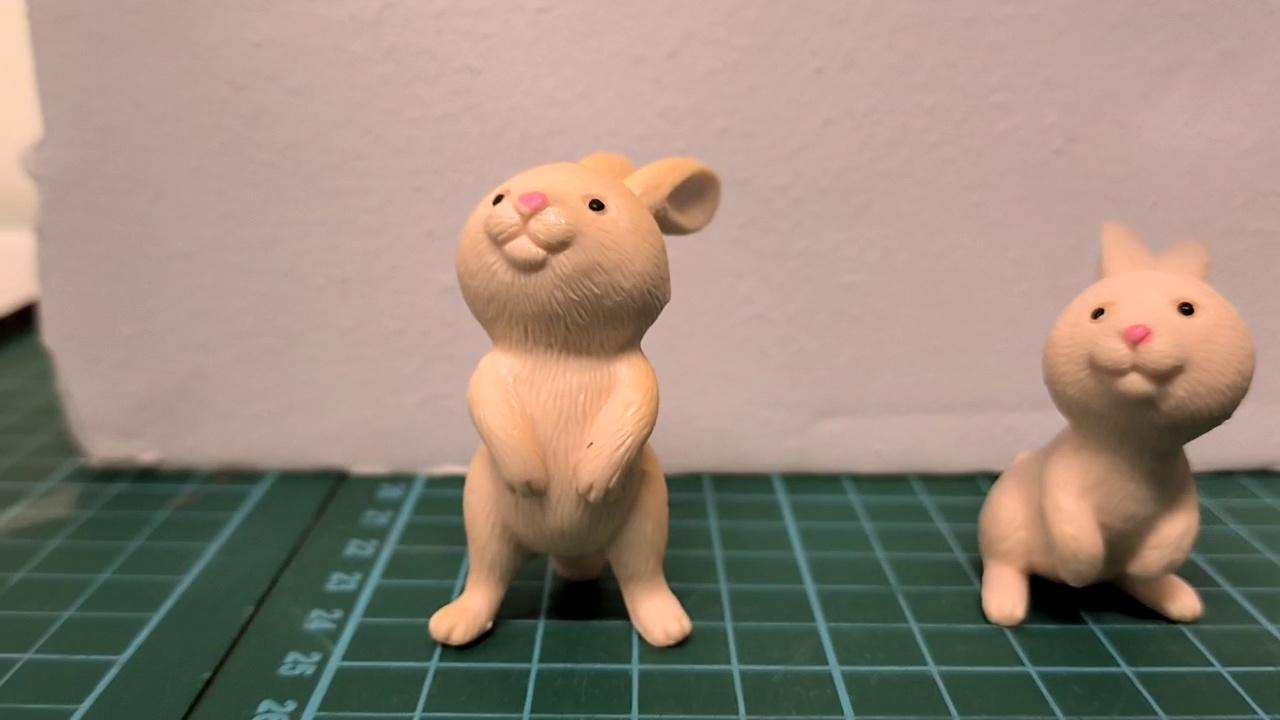pet: (430, 152, 721, 648), (979, 218, 1256, 628)
